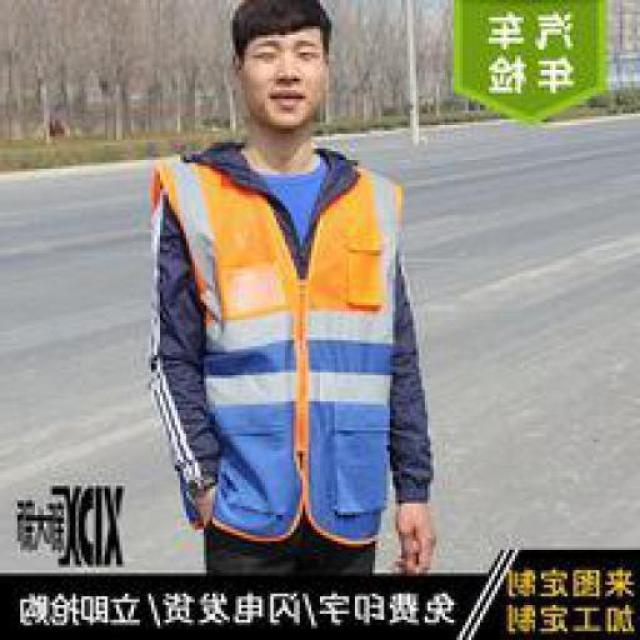face_nomask: (246, 42, 323, 122)
hand_noglove: (388, 496, 442, 576)
head_nohelmet: (227, 0, 341, 51)
person: (137, 0, 461, 572)
vest: (154, 149, 413, 541)
